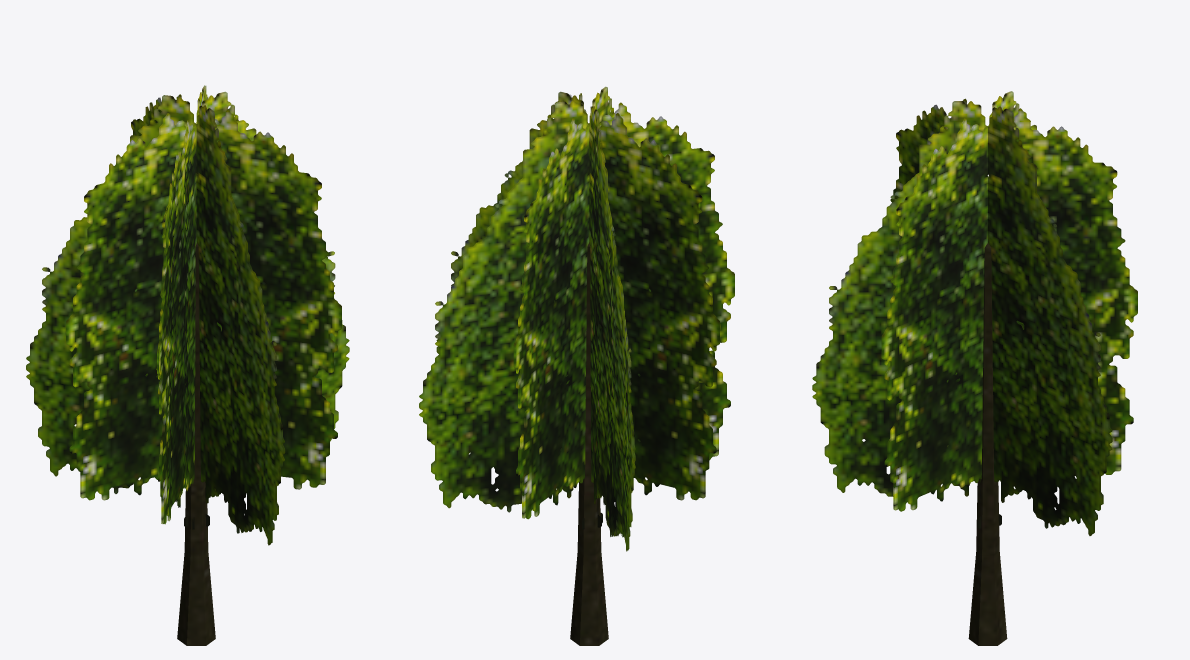
File: tree15.glb
3 renders of one model, left to right at view 1: azimuth 30°, elevation 25°; view 2: azimuth 150°, elevation 25°; view 3: azimuth 270°, elevation 25°, orthographic.
Parts seen in each view (by area): view 1: tree15; view 2: tree15; view 3: tree15.
Part boxes in pixels (box(x1,y1,x2,y2)): tree15: box(26, 85, 349, 645); tree15: box(419, 86, 734, 645); tree15: box(812, 91, 1137, 645).
Size of the model in its own units: 7.8 by 12.5 by 7.8.
1 material, 1 textured.
